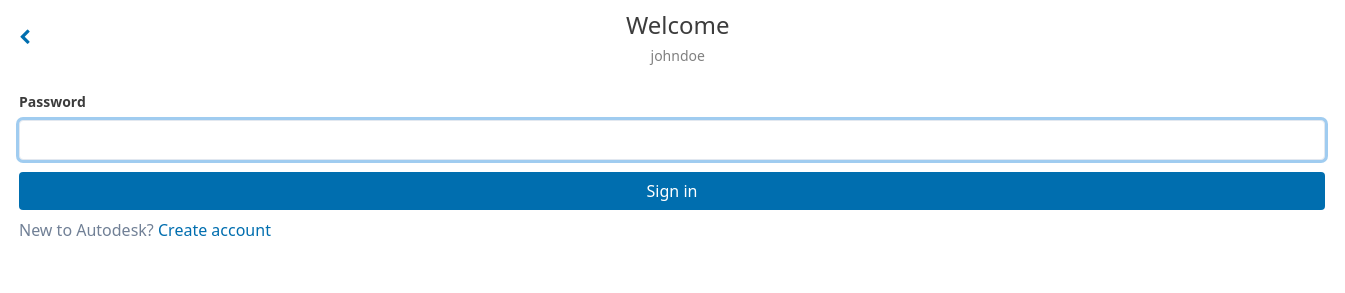
Test: SigninStepTwo › show error message when submit without value
Click the button "Sign in". click: (672, 191)
box: [19, 172, 1325, 210]
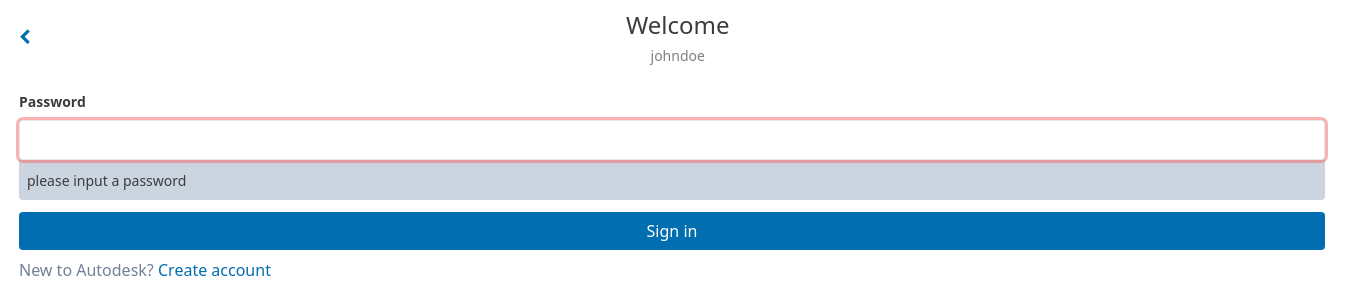
Expected: the text "please input a password" is shown, [27, 171, 186, 190]
